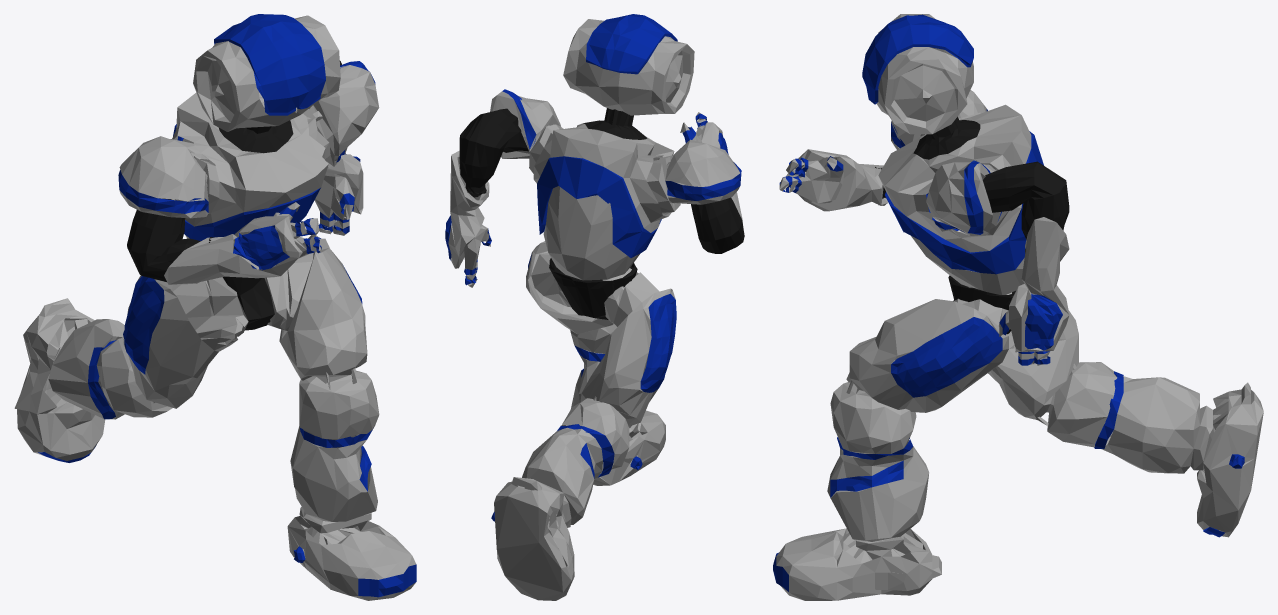
Rendered from run7.obj.
The picture shows the model from 3 angles, left to right: view 1: azimuth 30°, elevation 25°; view 2: azimuth 150°, elevation 25°; view 3: azimuth 270°, elevation 25°; orthographic projection. The views are drawn at different scales.
Visible parts, largest first — view 1: Robot2.001_Robot2Mesh.000, Robot2_Robot2Mesh.004, Robot2.002_Robot2Mesh.001; view 2: Robot2.001_Robot2Mesh.000, Robot2_Robot2Mesh.004, Robot2.002_Robot2Mesh.001; view 3: Robot2.001_Robot2Mesh.000, Robot2_Robot2Mesh.004, Robot2.002_Robot2Mesh.001.
Boxes of the visible parts, x1,y1,x2,y2 form: Robot2.001_Robot2Mesh.000: (14, 15, 416, 600); Robot2_Robot2Mesh.004: (38, 14, 416, 597); Robot2.002_Robot2Mesh.001: (127, 60, 341, 330); Robot2.001_Robot2Mesh.000: (448, 19, 742, 600); Robot2_Robot2Mesh.004: (445, 14, 741, 521); Robot2.002_Robot2Mesh.001: (459, 108, 744, 319); Robot2.001_Robot2Mesh.000: (776, 14, 1263, 600); Robot2_Robot2Mesh.004: (773, 14, 1244, 591); Robot2.002_Robot2Mesh.001: (875, 116, 1069, 333).
Bounding box in the file's own units: 1.01 × 1.86 × 1.54.
